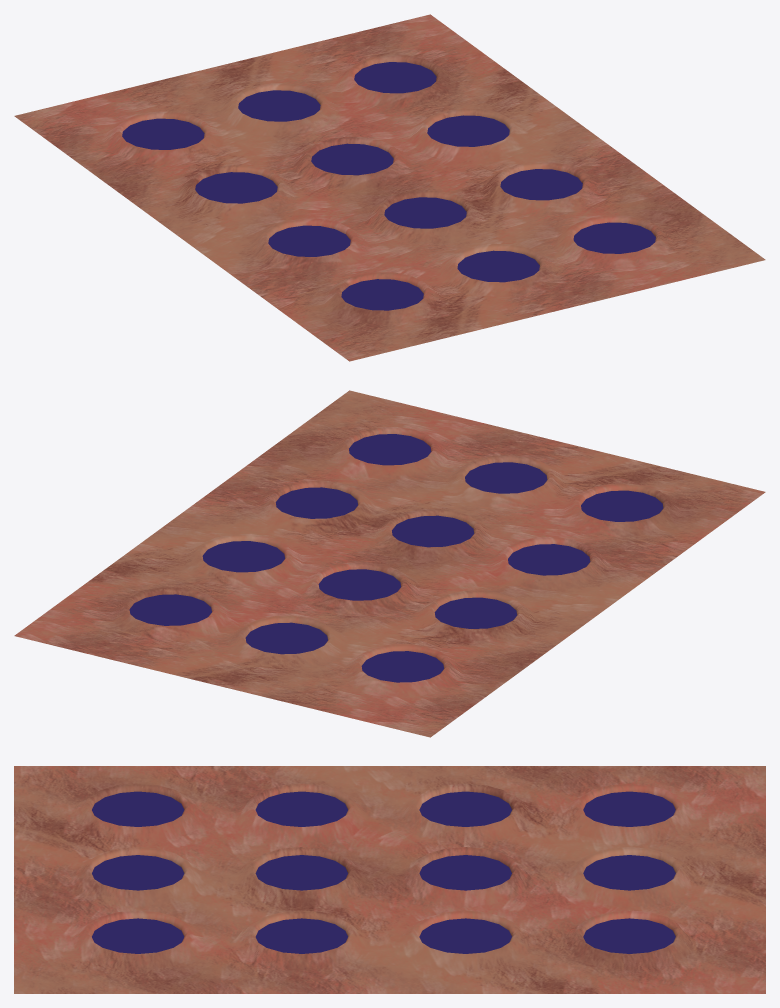
The model's file is s0_AG_Minigame_Mole_Terrain_Art_01.glb.
3 views of the same model, one above another, from view 1: azimuth 30°, elevation 25°; view 2: azimuth 150°, elevation 25°; view 3: azimuth 270°, elevation 25° (orthographic). The views are drawn at different scales.
Visible parts, largest first — view 1: node_AG_Minigame_Mole_Terrain_Art; view 2: node_AG_Minigame_Mole_Terrain_Art; view 3: node_AG_Minigame_Mole_Terrain_Art.
Boxes of the visible parts, bbox=[...] form: node_AG_Minigame_Mole_Terrain_Art: bbox=[14, 14, 765, 361]; node_AG_Minigame_Mole_Terrain_Art: bbox=[14, 390, 765, 737]; node_AG_Minigame_Mole_Terrain_Art: bbox=[14, 766, 765, 993].
Bounding box in the file's own units: 5.33 × 0.1006 × 7.44.
2 materials, 1 textured.
